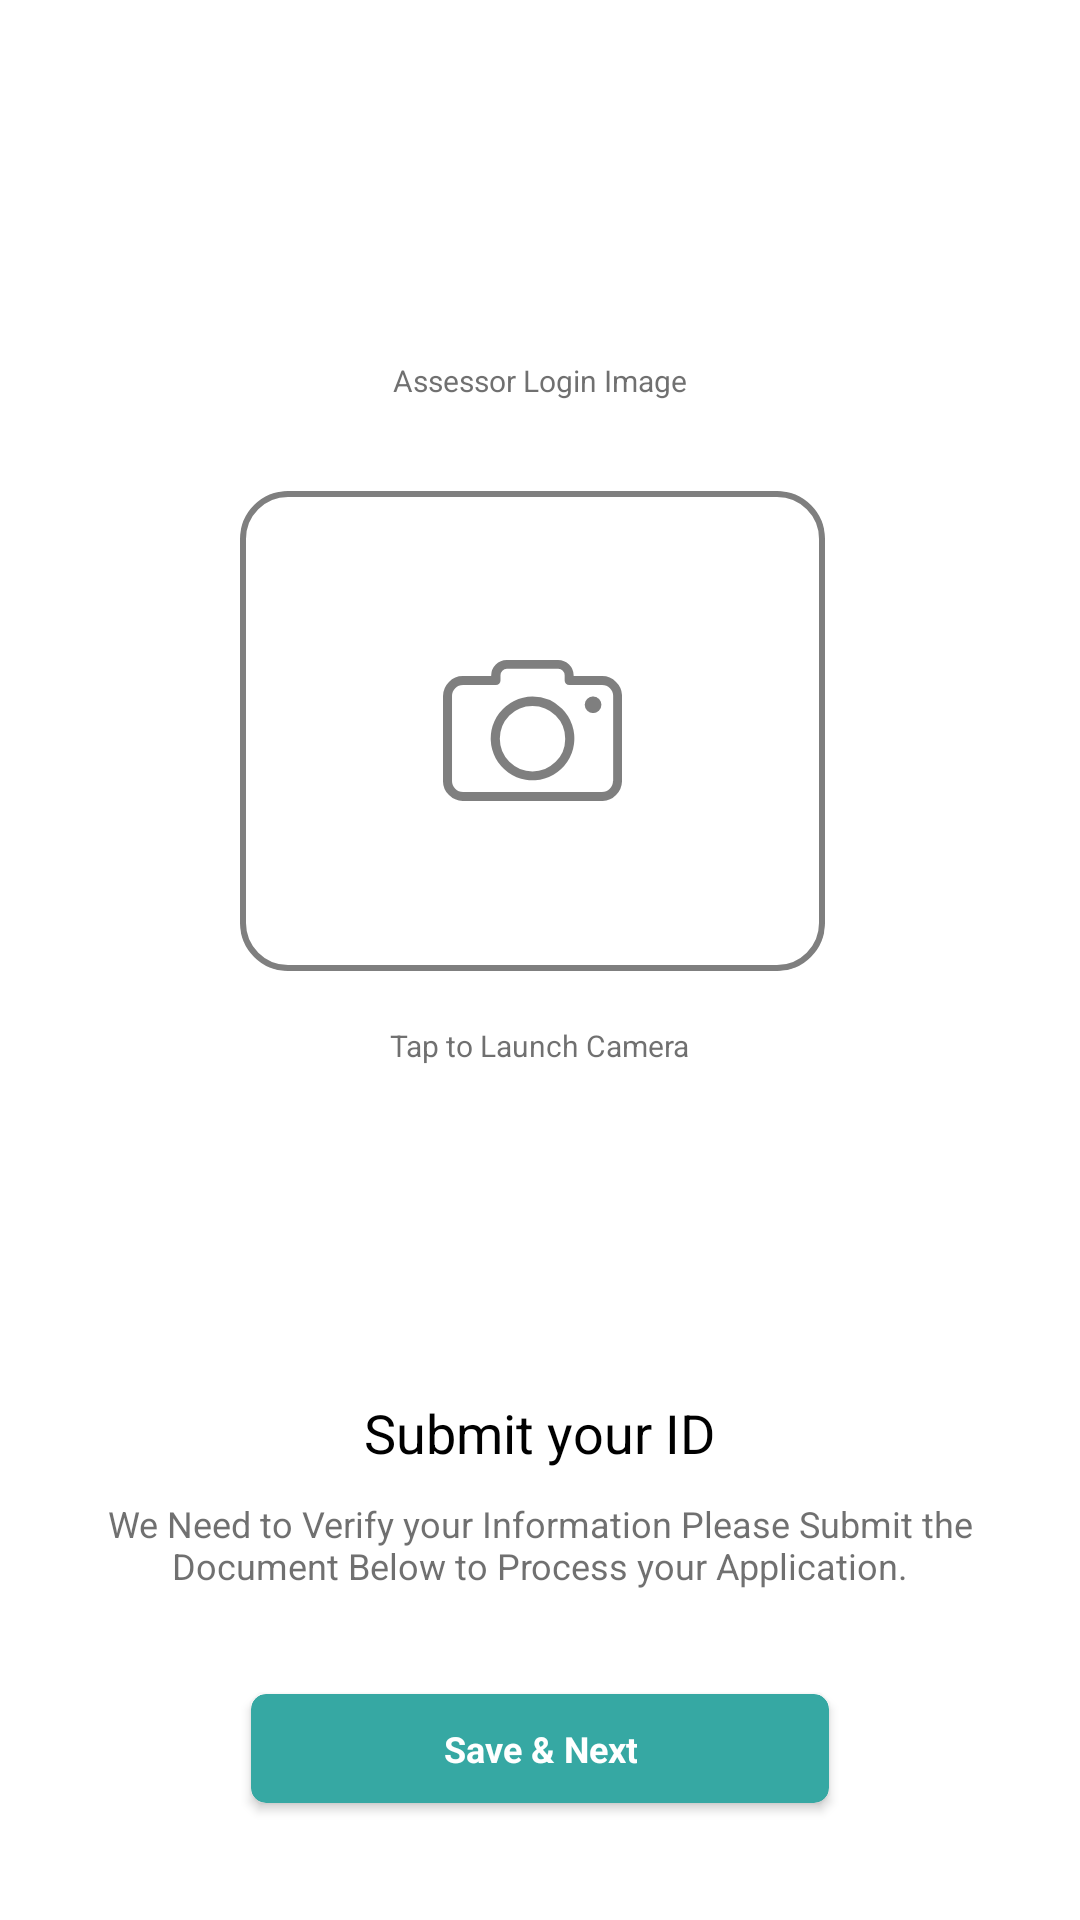

Screen size 1080*1920. Icon name, then its center in pixels as (x=x, y=y):
camera: (x=532, y=730)
